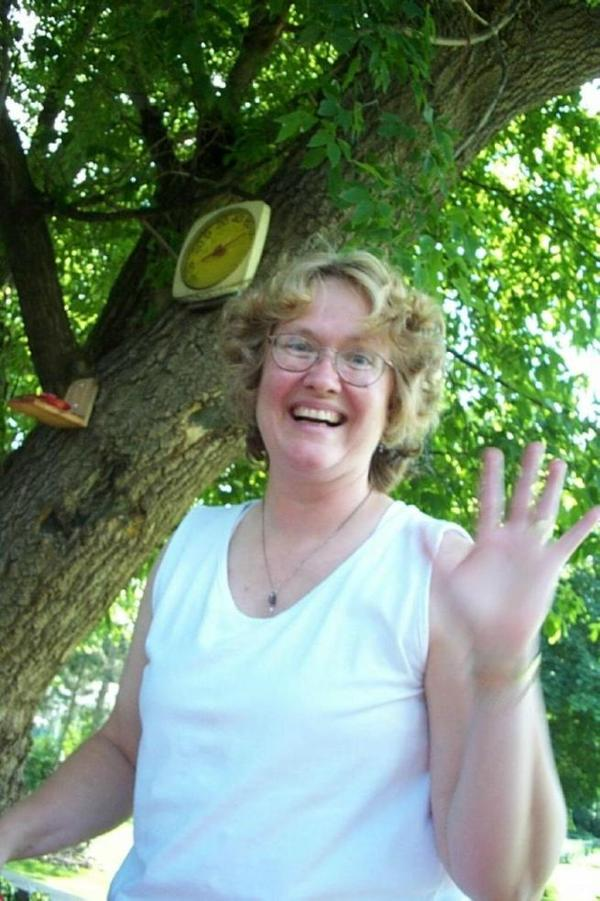person: (1, 249, 600, 901)
